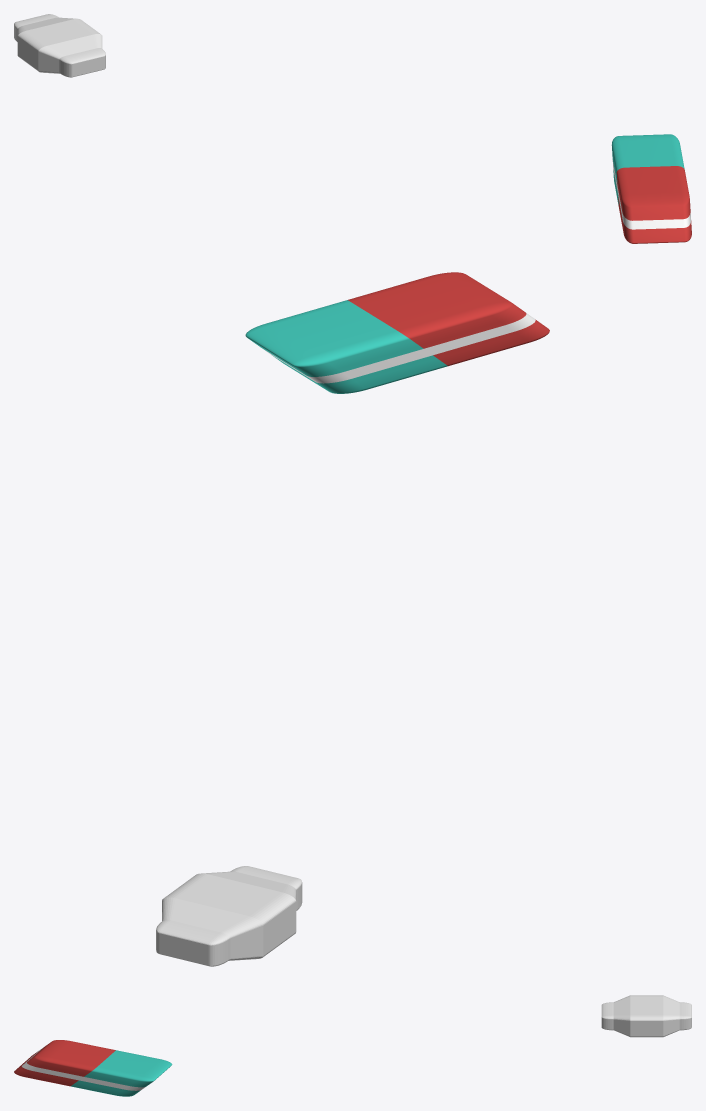
File: eraser2.fbx
3 renders of one model, top to bottom at view 1: azimuth 30°, elevation 25°; view 2: azimuth 150°, elevation 25°; view 3: azimuth 270°, elevation 25°, orthographic. The views are drawn at different scales.
Parts seen in each view (by area): view 1: Cube.017, Cube.034; view 2: Cube.017, Cube.034; view 3: Cube.017, Cube.034.
Part boxes in pixels (x1,y1,x2,y2): Cube.017: (611,134,691,243); Cube.034: (14,14,105,77); Cube.017: (245,272,549,393); Cube.034: (156,866,302,966); Cube.017: (14,1040,172,1096); Cube.034: (601,995,691,1037).
Bounding box in the file's own units: 512 × 119 × 1136.
